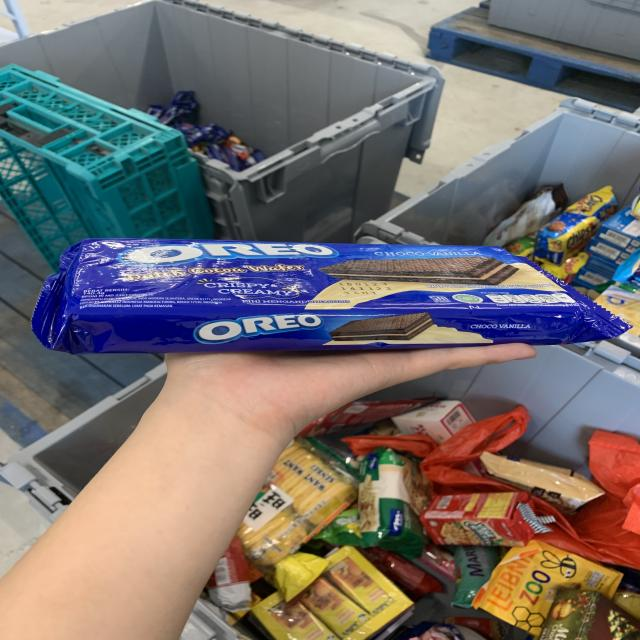object_name: (61, 243, 529, 341)
